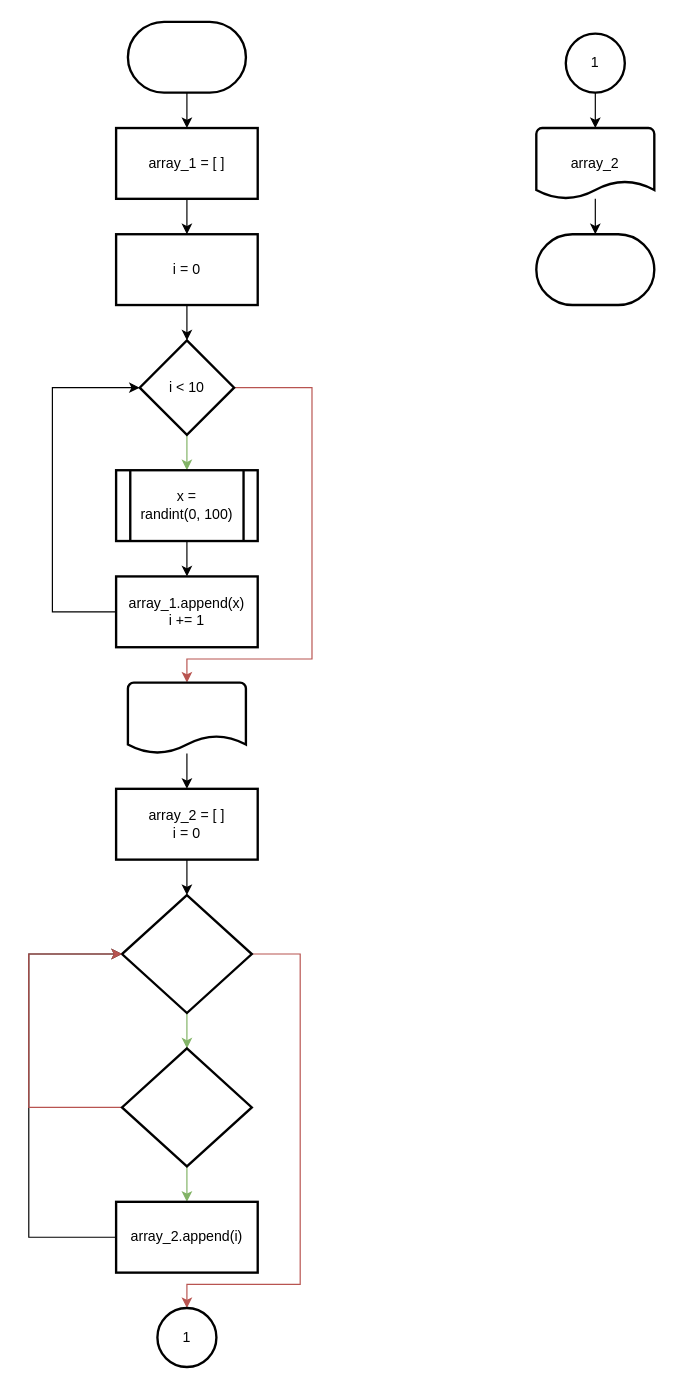
This 676x1388 diagram has some shape labels left out. The centre of each missing label's shape, as x and y in pixels:
"array_1" goes at [186,717].
"array_1[i]%2==0" goes at [186,1107].
"i < len(array_1)" goes at [186,953].
"Конец" goes at [595,269].
"Начало" goes at [186,56].
